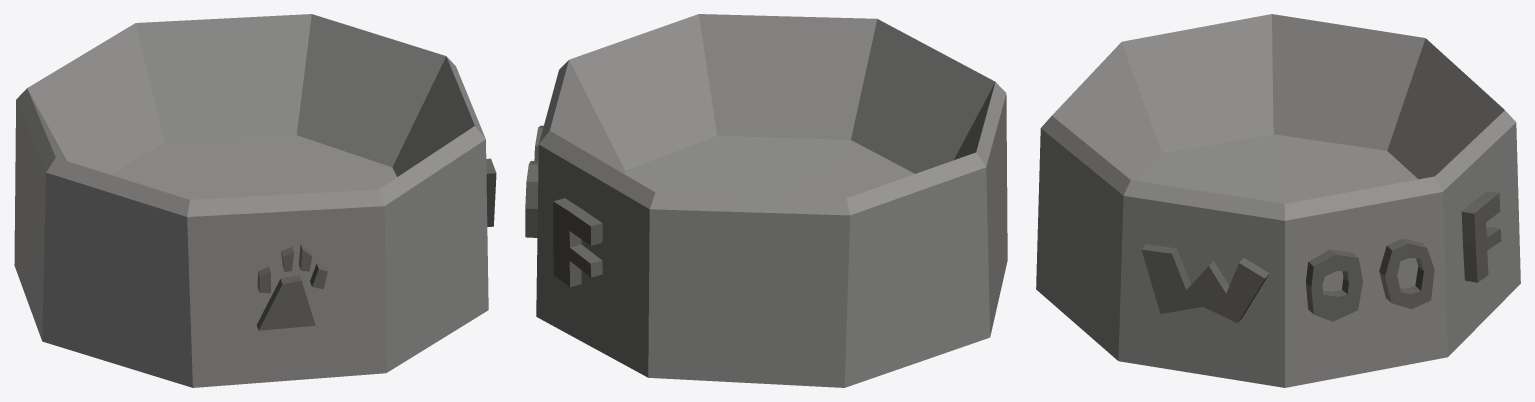
Rendered from Kitchen_2_Bowl.fbx.
3 views of the same model, side by side, from view 1: azimuth 30°, elevation 25°; view 2: azimuth 150°, elevation 25°; view 3: azimuth 270°, elevation 25° (orthographic). The views are drawn at different scales.
Parts seen in each view (by area): view 1: Kitchen_2_Bowl; view 2: Kitchen_2_Bowl; view 3: Kitchen_2_Bowl.
Boxes of the visible parts, x1,y1,x2,y2 form: Kitchen_2_Bowl: (14, 14, 496, 387); Kitchen_2_Bowl: (525, 14, 1007, 387); Kitchen_2_Bowl: (1036, 14, 1520, 387).
Bounding box in the file's own units: 34.14 × 34.17 × 13.83.
